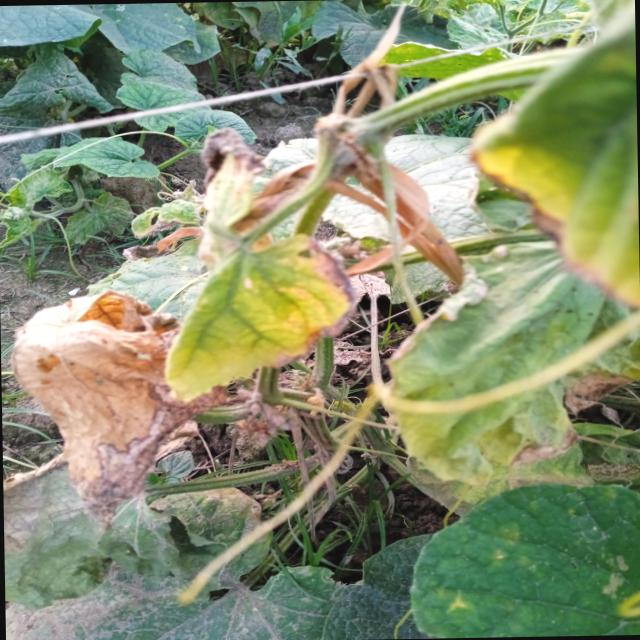cucumber_bacterial: (363, 268, 592, 480), (18, 314, 170, 475), (180, 152, 300, 258)
